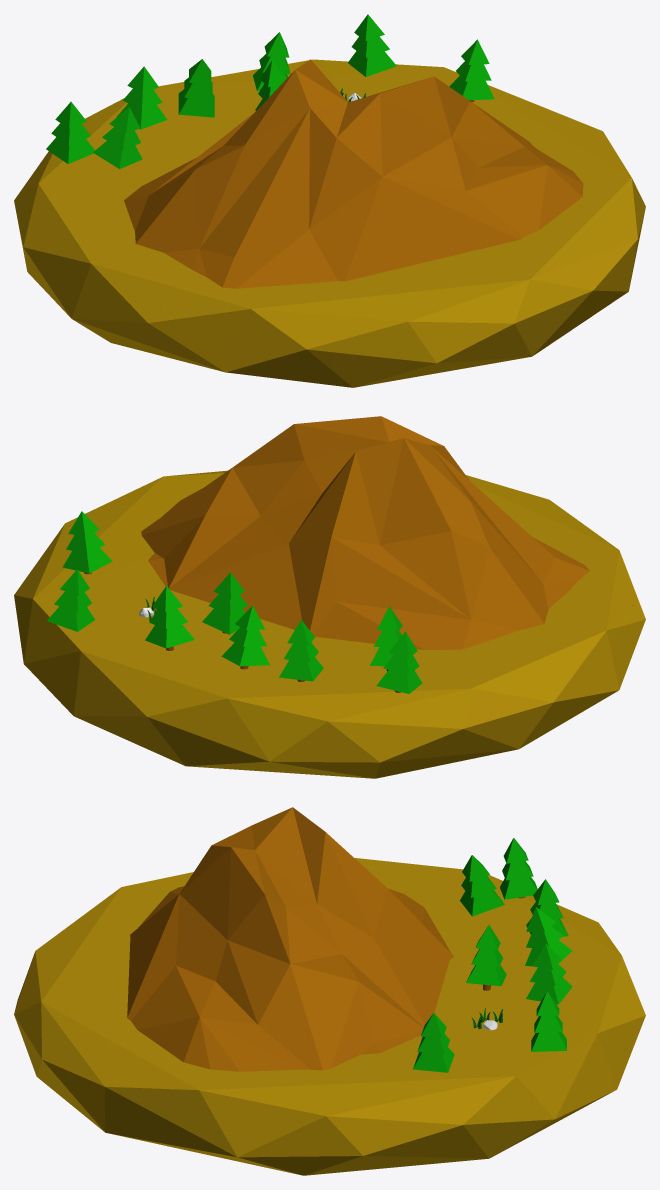
The model's file is lowpoly island.fbx.
3 views of the same model, one above another, from view 1: azimuth 30°, elevation 25°; view 2: azimuth 150°, elevation 25°; view 3: azimuth 270°, elevation 25° (orthographic).
Visible parts, largest first — view 1: Cylinder, Landscape, Pyramid_2_3, Pyramid_7, Pyramid_5, Pyramid_3, Pyramid_8, Pyramid, Pyramid_1; view 2: Cylinder, Landscape, Pyramid_8, Pyramid_4, Pyramid_3, Pyramid_5, Pyramid_7, Pyramid, Pyramid_6, Pyramid_1_8, Pyramid_1_4, Pyramid_1_6 (+1 smaller); view 3: Cylinder, Landscape, Pyramid_2_3, Pyramid_8, Pyramid_6, Pyramid_5, Pyramid_4, Pyramid_7.
Part boxes in pixels (x1=…): Cylinder: x1=14, y1=59, x2=645, y2=387; Landscape: x1=124, y1=59, x2=583, y2=308; Pyramid_2_3: x1=93, y1=141, x2=142, y2=169; Pyramid_7: x1=46, y1=137, x2=94, y2=163; Pyramid_5: x1=348, y1=51, x2=396, y2=76; Pyramid_3: x1=178, y1=89, x2=214, y2=117; Pyramid_8: x1=449, y1=76, x2=494, y2=100; Pyramid: x1=116, y1=103, x2=167, y2=129; Pyramid_1: x1=123, y1=88, x2=162, y2=110; Cylinder: x1=14, y1=470, x2=645, y2=778; Landscape: x1=141, y1=416, x2=633, y2=649; Pyramid_8: x1=62, y1=548, x2=112, y2=573; Pyramid_4: x1=145, y1=624, x2=194, y2=648; Pyramid_3: x1=221, y1=642, x2=269, y2=666; Pyramid_5: x1=47, y1=606, x2=94, y2=631; Pyramid_7: x1=376, y1=670, x2=422, y2=693; Pyramid: x1=279, y1=657, x2=323, y2=681; Pyramid_6: x1=202, y1=608, x2=245, y2=634; Pyramid_1_8: x1=66, y1=533, x2=105, y2=554; Pyramid_1_4: x1=149, y1=608, x2=187, y2=628; Pyramid_1_6: x1=208, y1=594, x2=247, y2=615; Cylinder: x1=14, y1=858, x2=645, y2=1175; Landscape: x1=127, y1=807, x2=453, y2=1071; Pyramid_2_3: x1=460, y1=890, x2=504, y2=916; Pyramid_8: x1=413, y1=1047, x2=454, y2=1072; Pyramid_6: x1=466, y1=964, x2=506, y2=986; Pyramid_5: x1=531, y1=1032, x2=566, y2=1051; Pyramid_4: x1=526, y1=977, x2=572, y2=1004; Pyramid_7: x1=500, y1=877, x2=537, y2=899.
Bounding box in the file's own units: 441 × 168 × 441.
